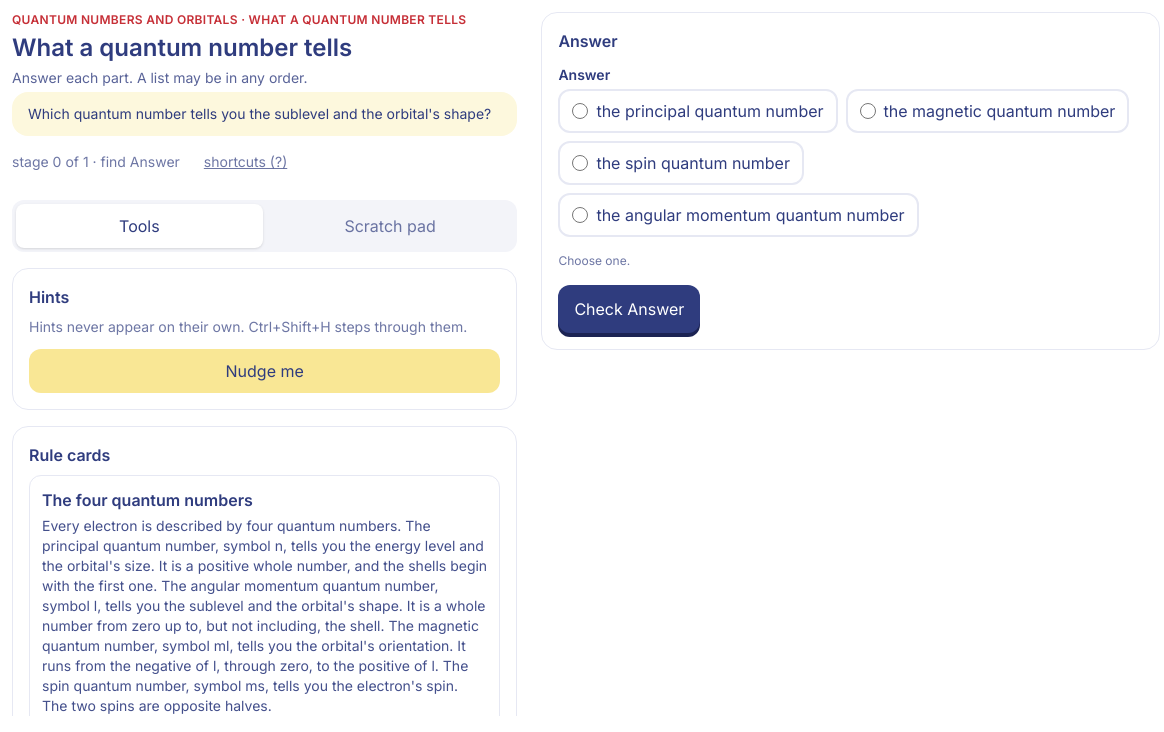
Test case: Quantum numbers qn.meaning › an unreadable answer records nothing
Click the button "Check Answer": point(629, 309) [558, 285, 700, 333]
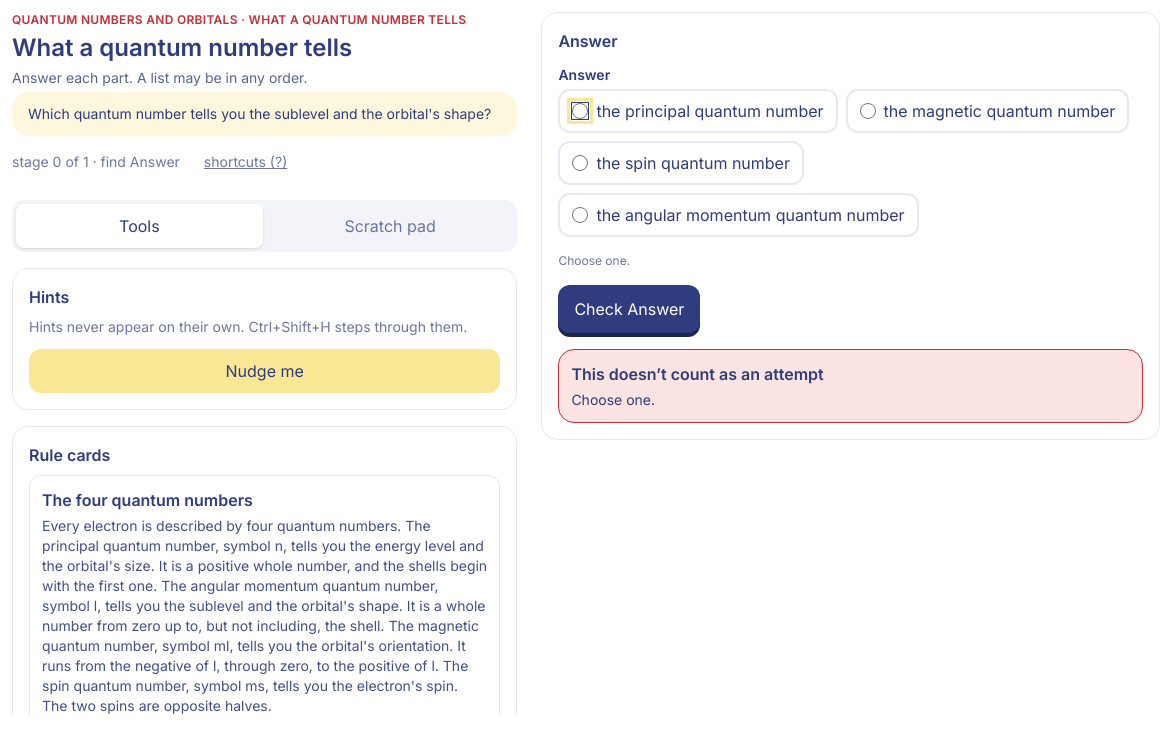
Expected: the message shows "This doesn’t count as an attempt", [571, 364, 824, 384]
